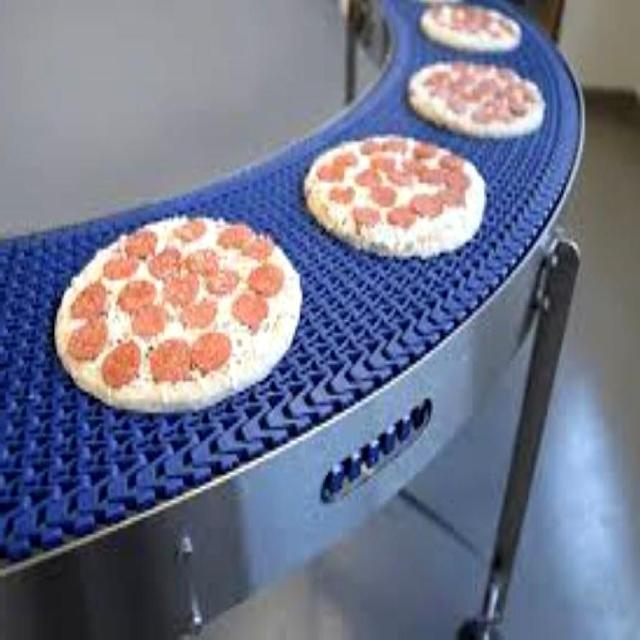food: (54, 206, 304, 414), (304, 128, 488, 260)
